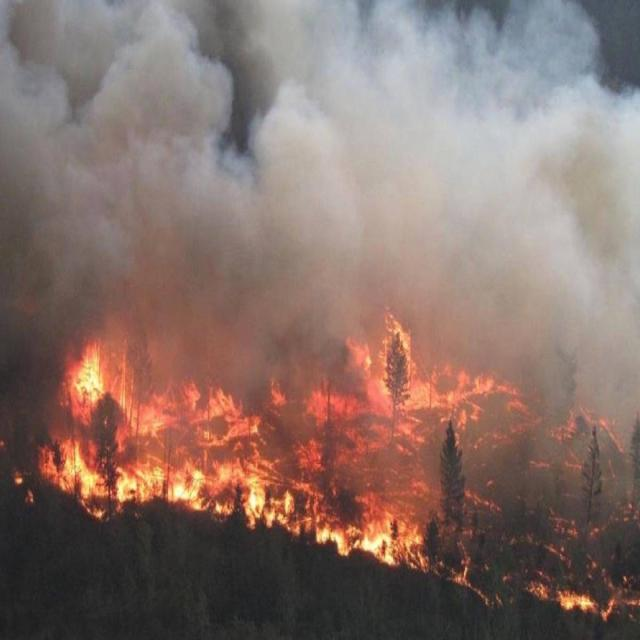Fire: (47, 323, 640, 618)
Smoke: (0, 0, 640, 442)
